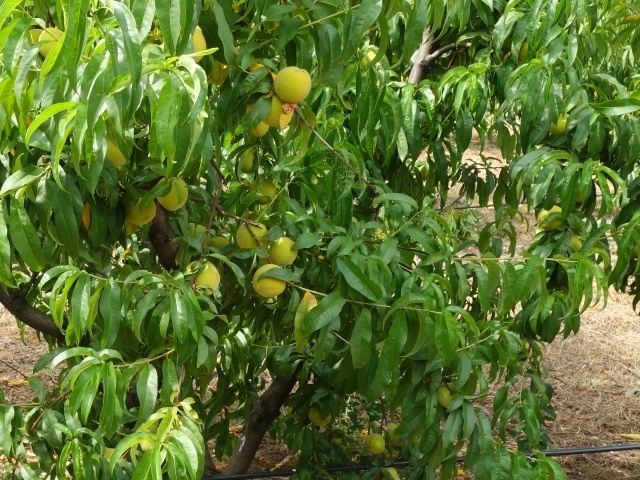peach: (271, 64, 314, 109), (250, 260, 293, 299), (181, 257, 222, 295), (258, 85, 295, 127), (232, 214, 270, 252), (152, 175, 190, 212), (120, 192, 159, 228), (268, 233, 301, 270), (534, 200, 567, 234), (34, 21, 65, 57), (245, 177, 279, 205), (436, 379, 462, 410), (306, 402, 334, 427), (237, 150, 261, 179), (361, 431, 386, 456), (385, 420, 409, 445)
